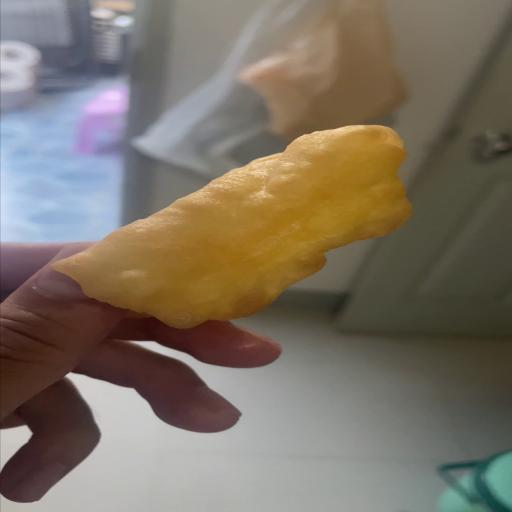street_golden_good: (53, 126, 410, 327)
